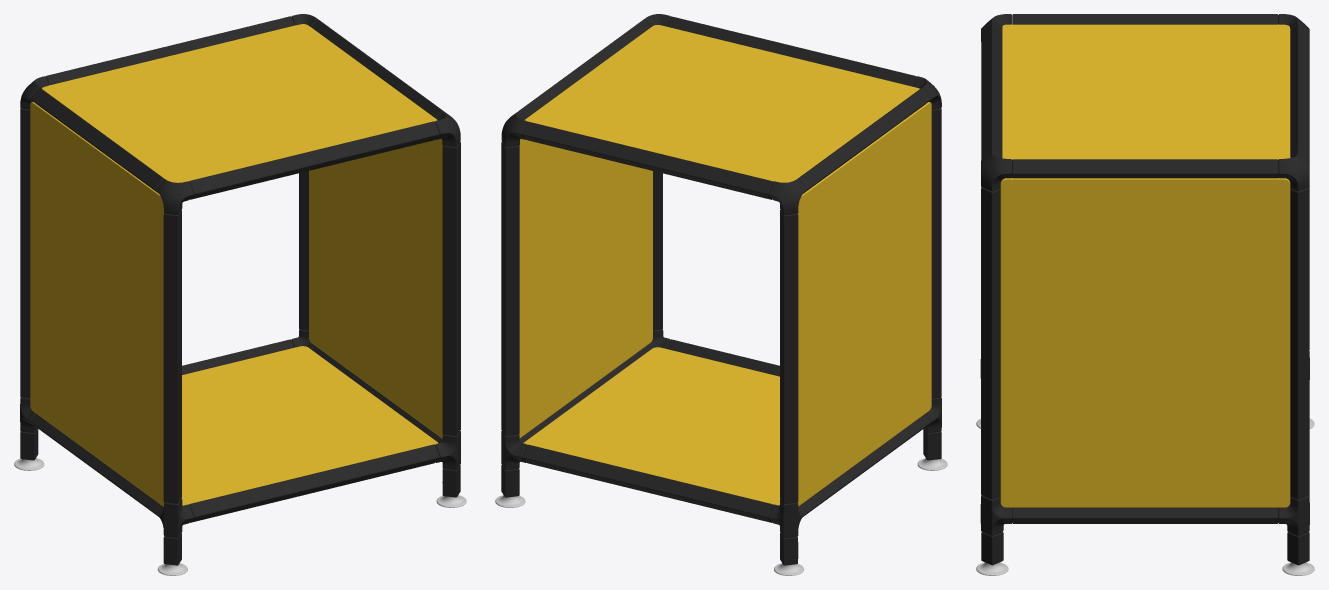
The picture shows the model from 3 angles, left to right: view 1: azimuth 30°, elevation 25°; view 2: azimuth 150°, elevation 25°; view 3: azimuth 270°, elevation 25°; orthographic projection. The views are drawn at different scales.
Parts seen in each view (by area): view 1: 374x329x420; view 2: 374x329x420; view 3: 374x329x420.
Part boxes in pixels (<box>): 374x329x420: <box>14,14,466,575</box>; 374x329x420: <box>495,14,947,575</box>; 374x329x420: <box>976,14,1314,575</box>.
Size of the model in its own units: 0.4639 by 0.5593 by 0.4182.
